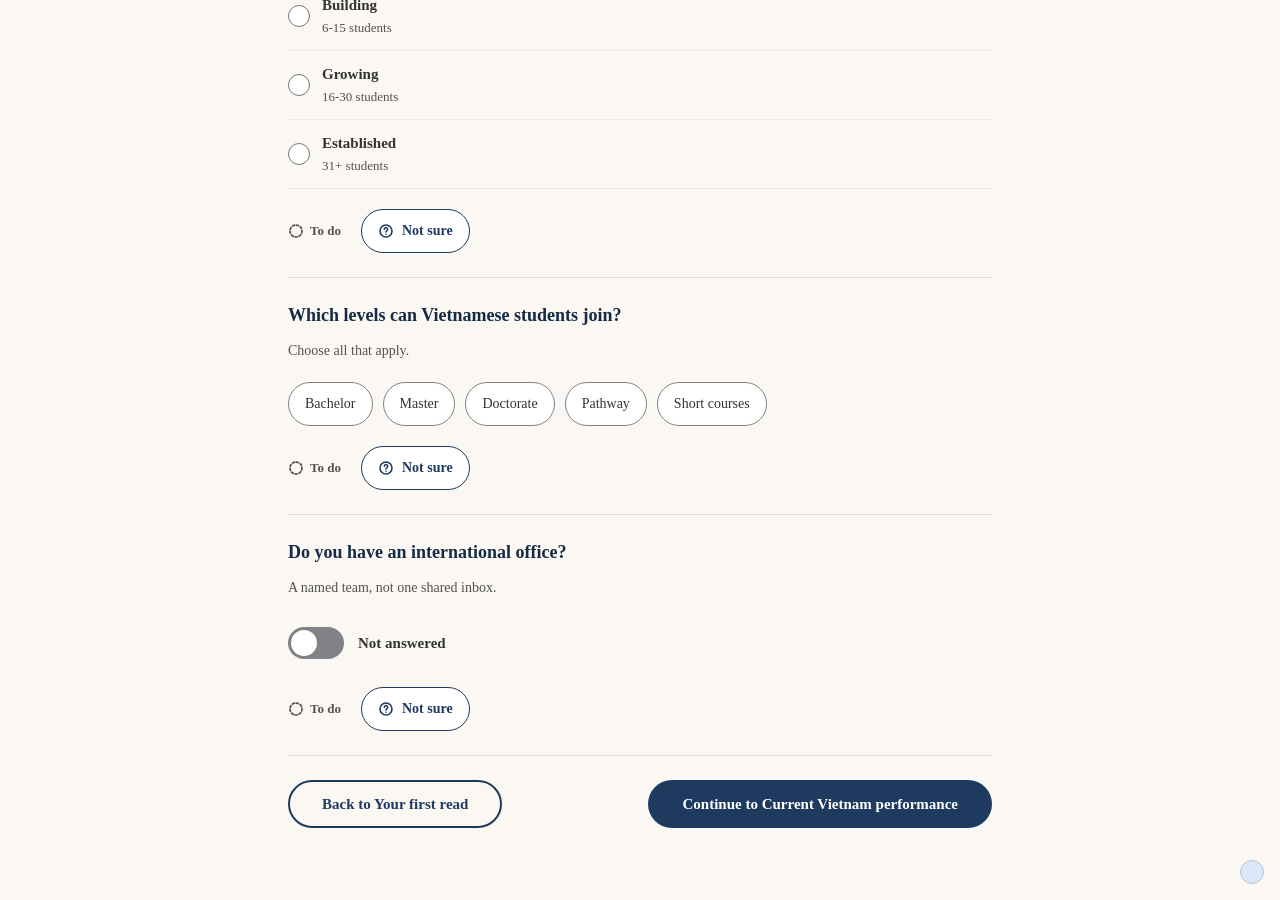
it: AuditFlow remaining sections › moves on to the next section and back, and ends with the report link
(page scrolled)
Click the button "Continue to Current Vietnam performance" at (820, 804), box [648,780,992,828]
(page scrolled)
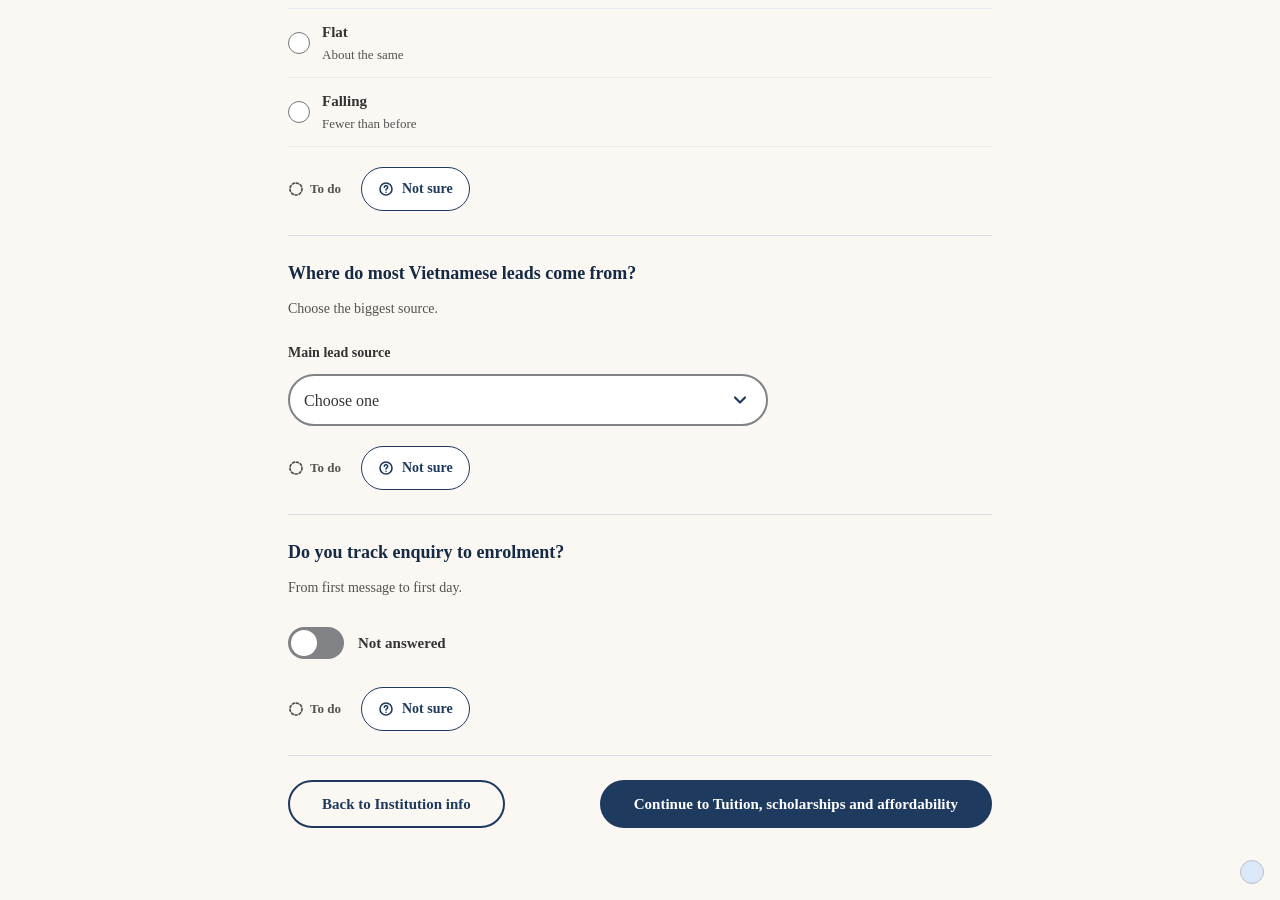
Click the button "Continue to Tuition, scholarships and affordability" at (796, 804), box [600,780,992,828]
(page scrolled)
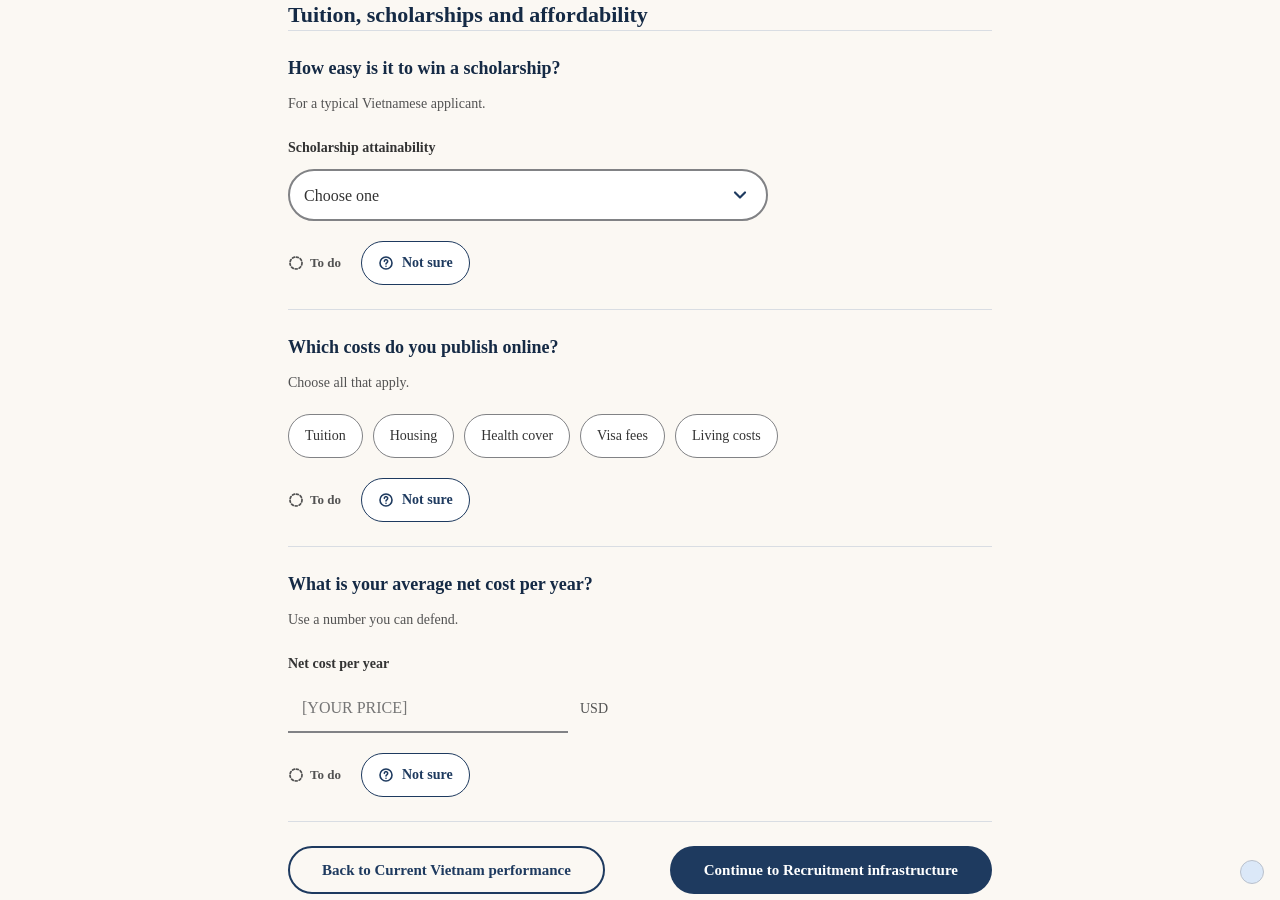
Expected: the heading "Tuition, scholarships and affordability" is shown, [288,2,648,27]
Click the button "Continue to Recruitment infrastructure" at (831, 870), box [670,846,992,894]
(page scrolled)
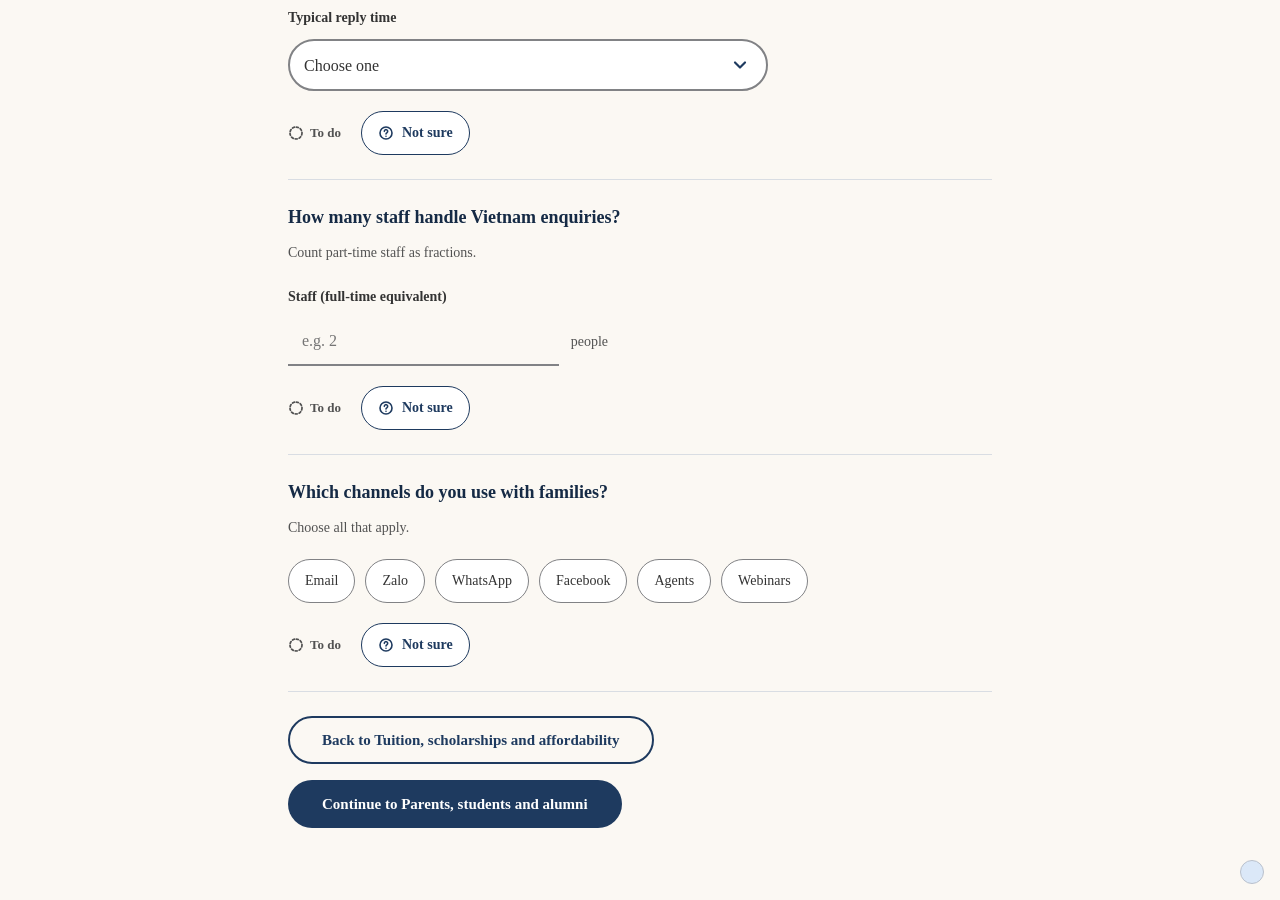
Click the button "Continue to Parents, students and alumni" at (455, 804), box [288,780,622,828]
(page scrolled)
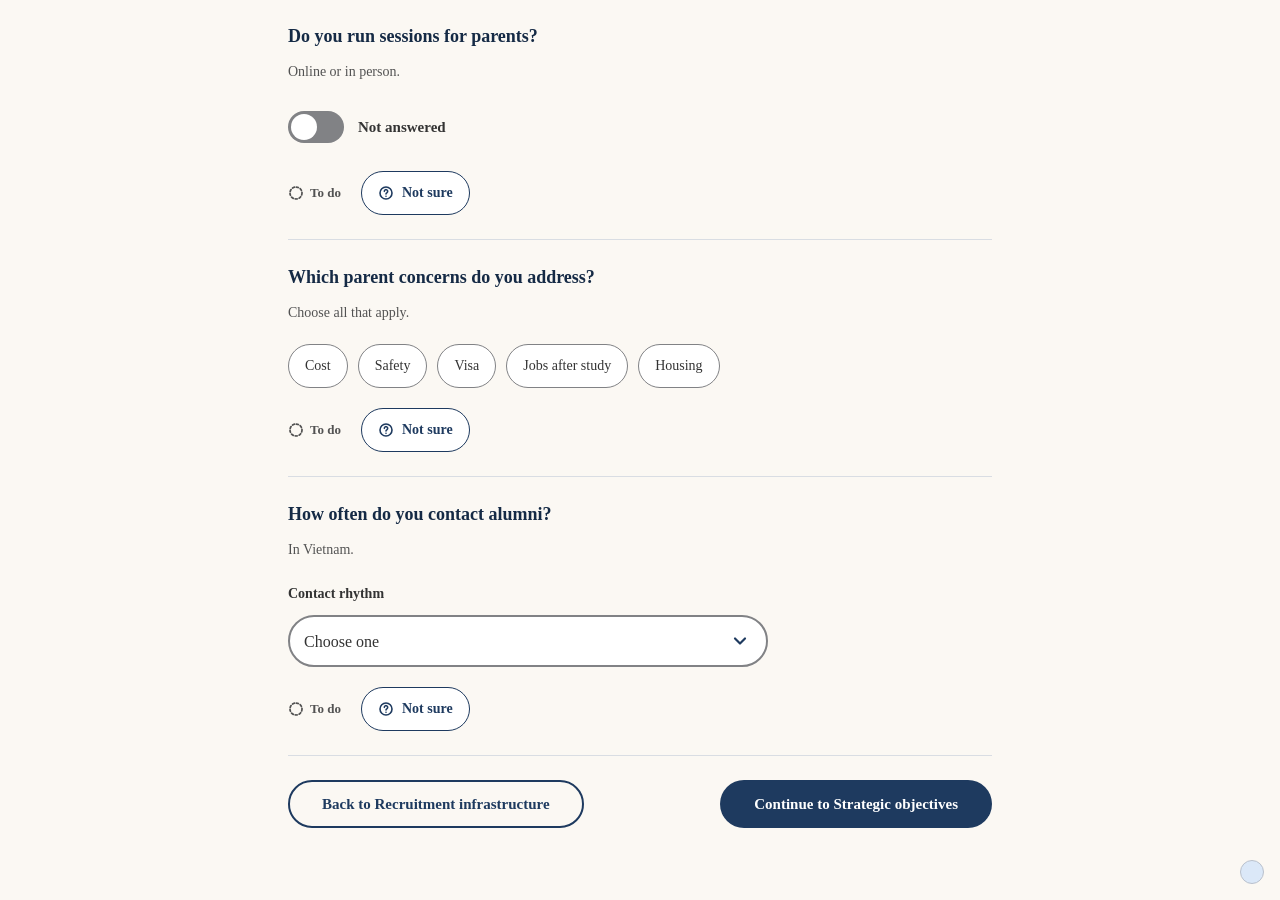
Click the button "Continue to Strategic objectives" at (856, 804), box [720,780,992,828]
(page scrolled)
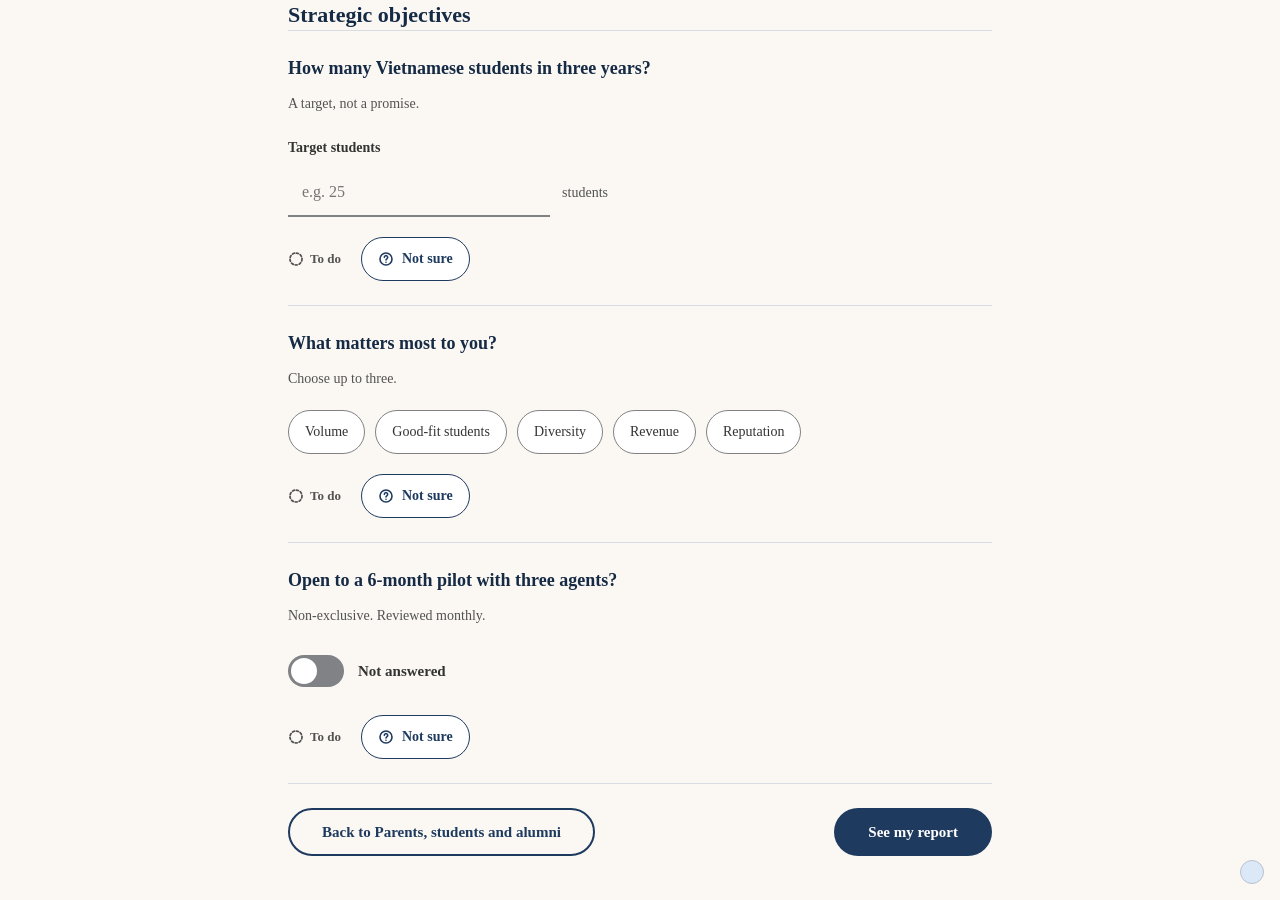
Expected: the heading "Strategic objectives" is shown, [288,2,471,27]
Click the button "Back to Parents, students and alumni" at (441, 832), box [288,808,595,856]
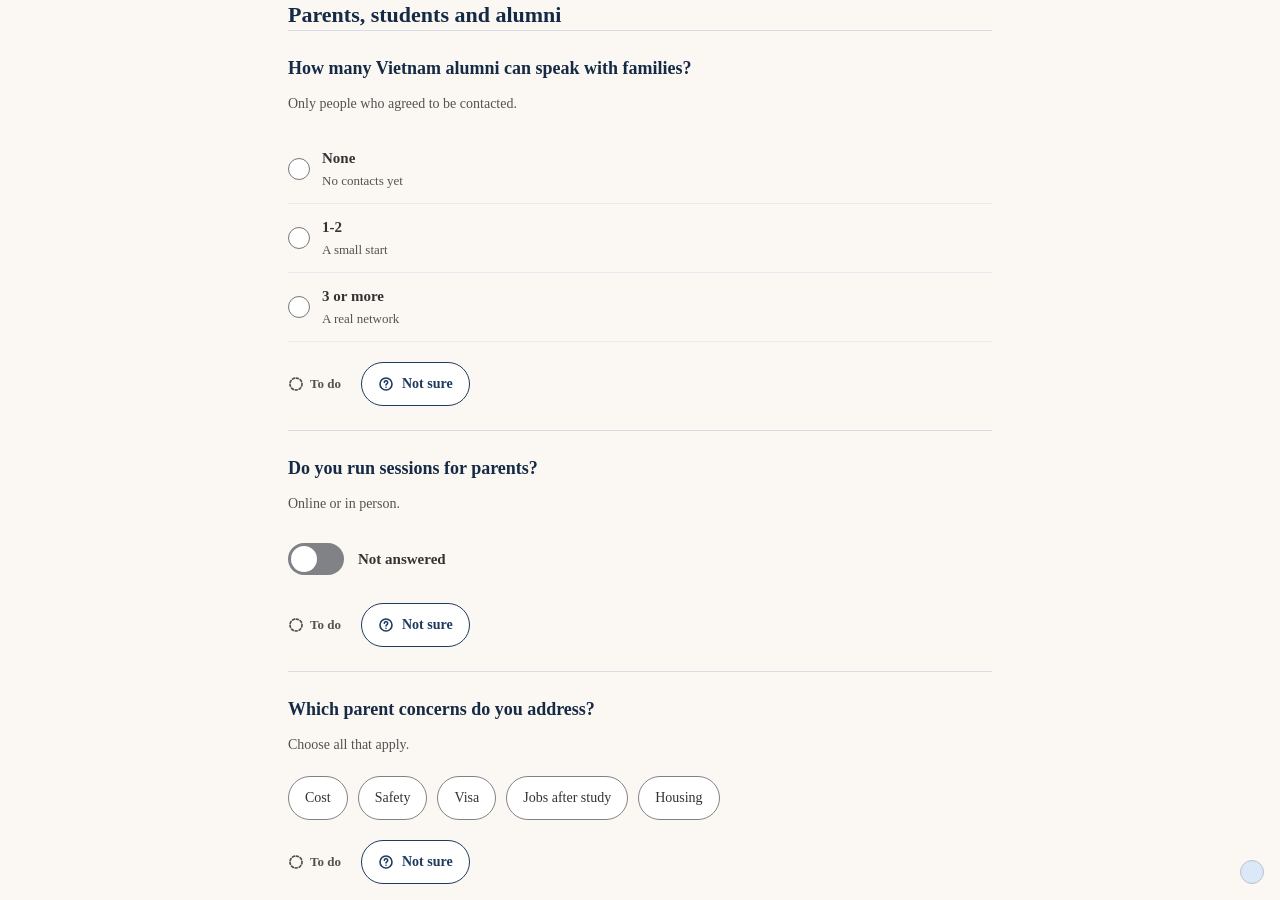
Expected: the heading "Parents, students and alumni" is shown, [288,2,561,27]
